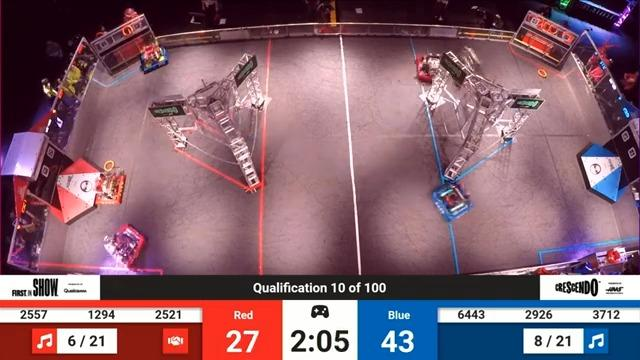robot: (102, 223, 152, 266), (426, 178, 472, 223), (91, 165, 130, 211), (444, 46, 485, 83), (416, 47, 453, 83), (134, 39, 173, 72)
